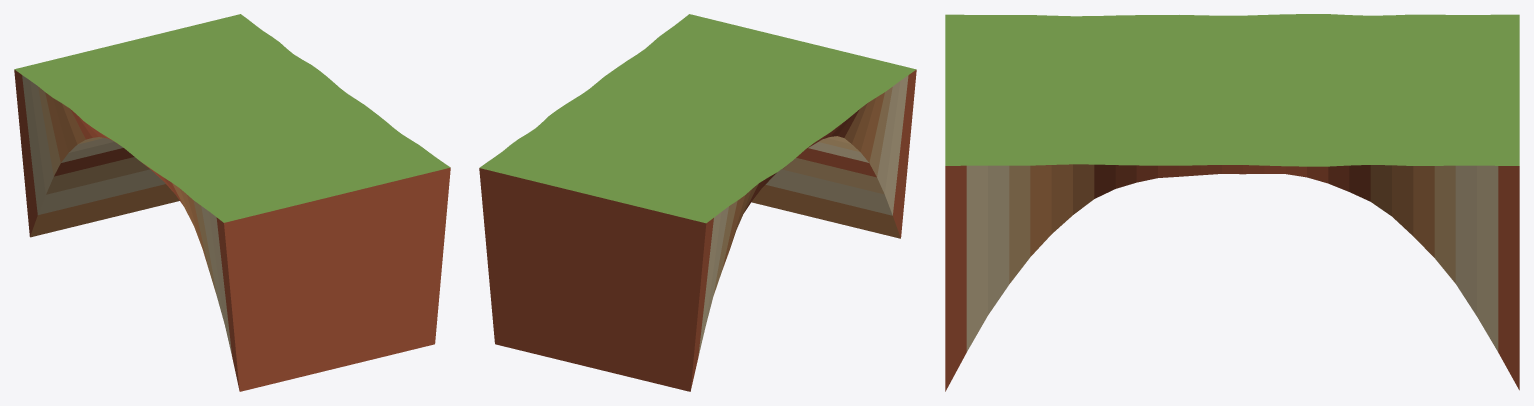
Rendered from ponte_14b.glb.
The picture shows the model from 3 angles, left to right: view 1: azimuth 30°, elevation 25°; view 2: azimuth 150°, elevation 25°; view 3: azimuth 270°, elevation 25°; orthographic projection. The views are drawn at different scales.
Parts seen in each view (by area): view 1: ponte_14b; view 2: ponte_14b; view 3: ponte_14b.
Boxes of the visible parts, x1,y1,x2,y2 form: ponte_14b: [14, 14, 450, 391]; ponte_14b: [479, 14, 916, 391]; ponte_14b: [945, 14, 1519, 391].
Size of the model in its own units: 69.19 by 49.99 by 110.
